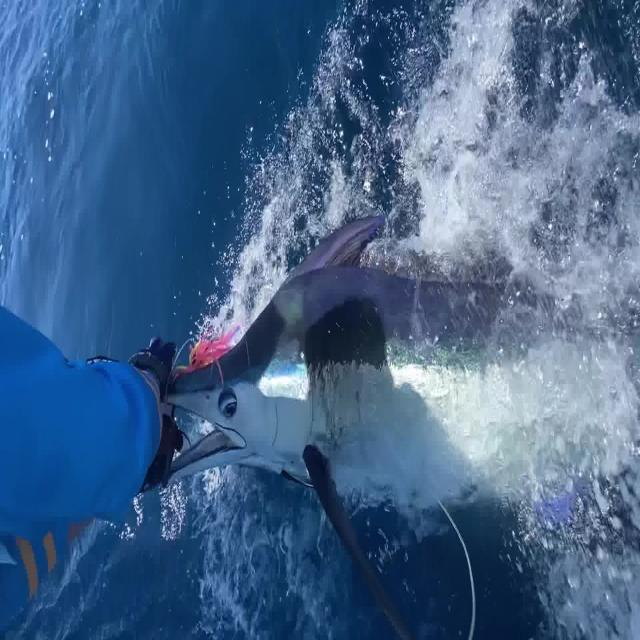Liberacion segura: (159, 212, 640, 640)
